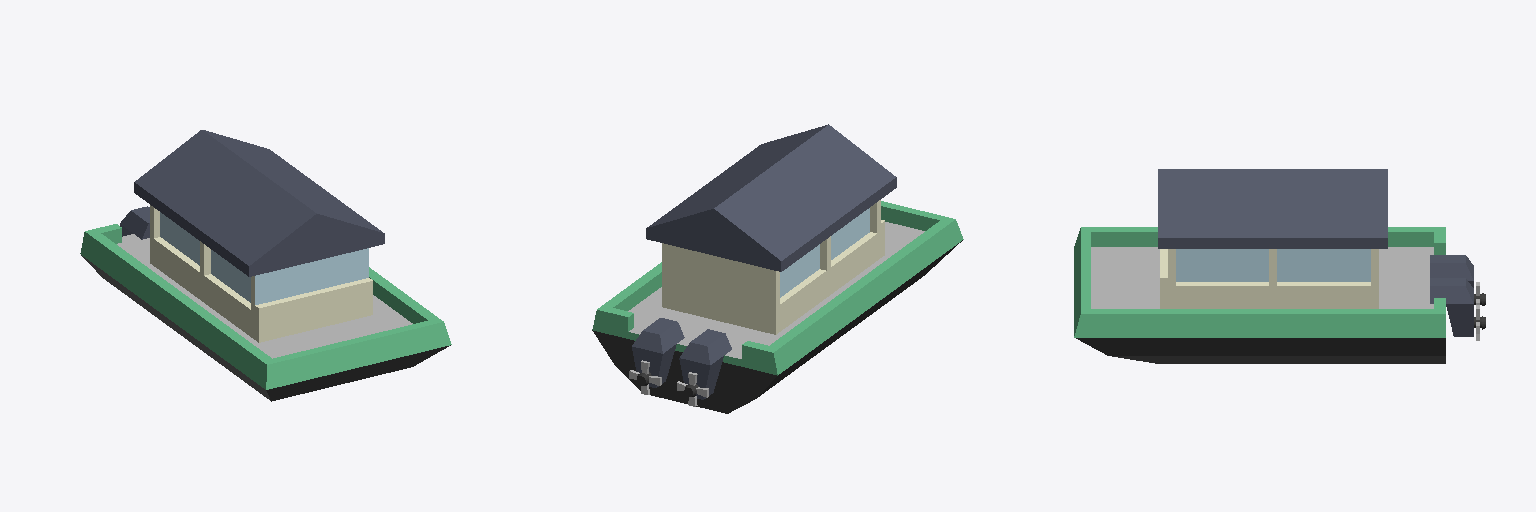
File: watercraftPack_002.obj
The picture shows the model from 3 angles: view 1: azimuth 30°, elevation 25°; view 2: azimuth 150°, elevation 25°; view 3: azimuth 270°, elevation 25°; orthographic projection.
Parts seen in each view (by area): view 1: Mesh5 Group1 Model, Mesh4 Group5 Group1 Model; view 2: Mesh5 Group1 Model, Mesh2 Group3 Group1 Model, Mesh4 Group5 Group1 Model; view 3: Mesh5 Group1 Model, Mesh2 Group3 Group1 Model, Mesh4 Group5 Group1 Model.
Boxes of the visible parts, <box> form: Mesh5 Group1 Model: <box>80,130,451,401</box>; Mesh4 Group5 Group1 Model: <box>120,206,149,239</box>; Mesh5 Group1 Model: <box>592,124,963,413</box>; Mesh2 Group3 Group1 Model: <box>632,318,684,387</box>; Mesh4 Group5 Group1 Model: <box>679,329,731,399</box>; Mesh5 Group1 Model: <box>1074,169,1445,363</box>; Mesh2 Group3 Group1 Model: <box>1430,278,1485,336</box>; Mesh4 Group5 Group1 Model: <box>1430,255,1485,305</box>.
Bounding box in the file's own units: 2.68 × 2.4 × 5.14.